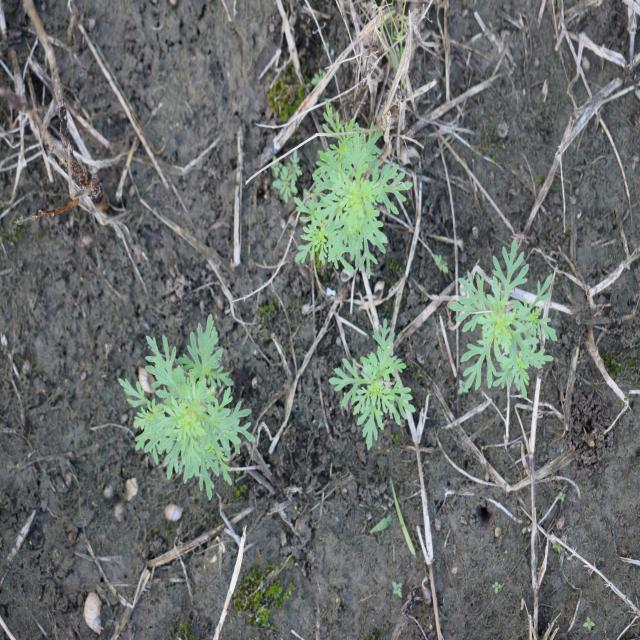Ragweed: (117, 313, 257, 502), (291, 96, 415, 283), (448, 234, 557, 402), (328, 316, 418, 453), (270, 149, 304, 206)
